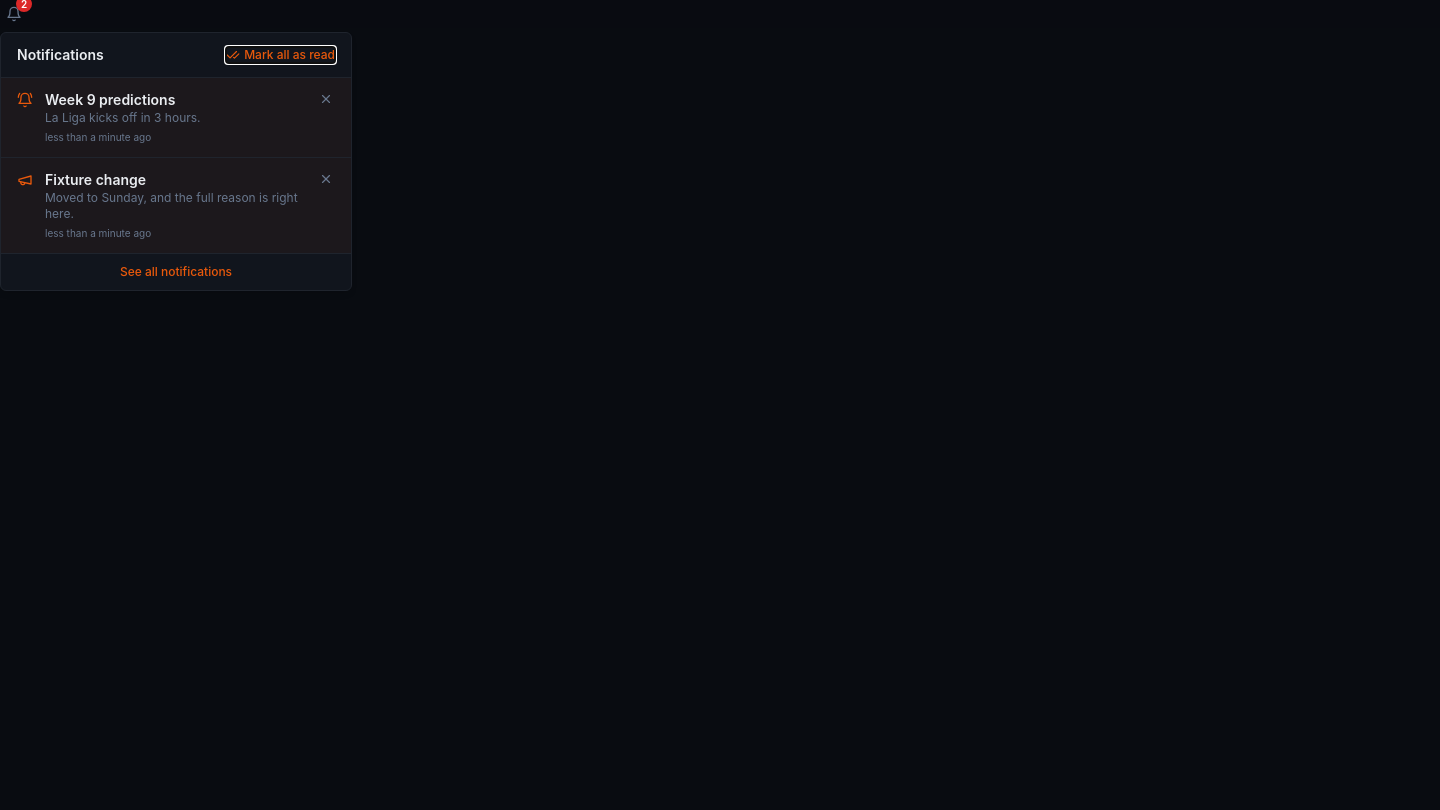
Test case: the notification bell › tapping one shows it in full and marks it read
Click the text "Fixture change" at (96, 180), box [45, 171, 146, 188]
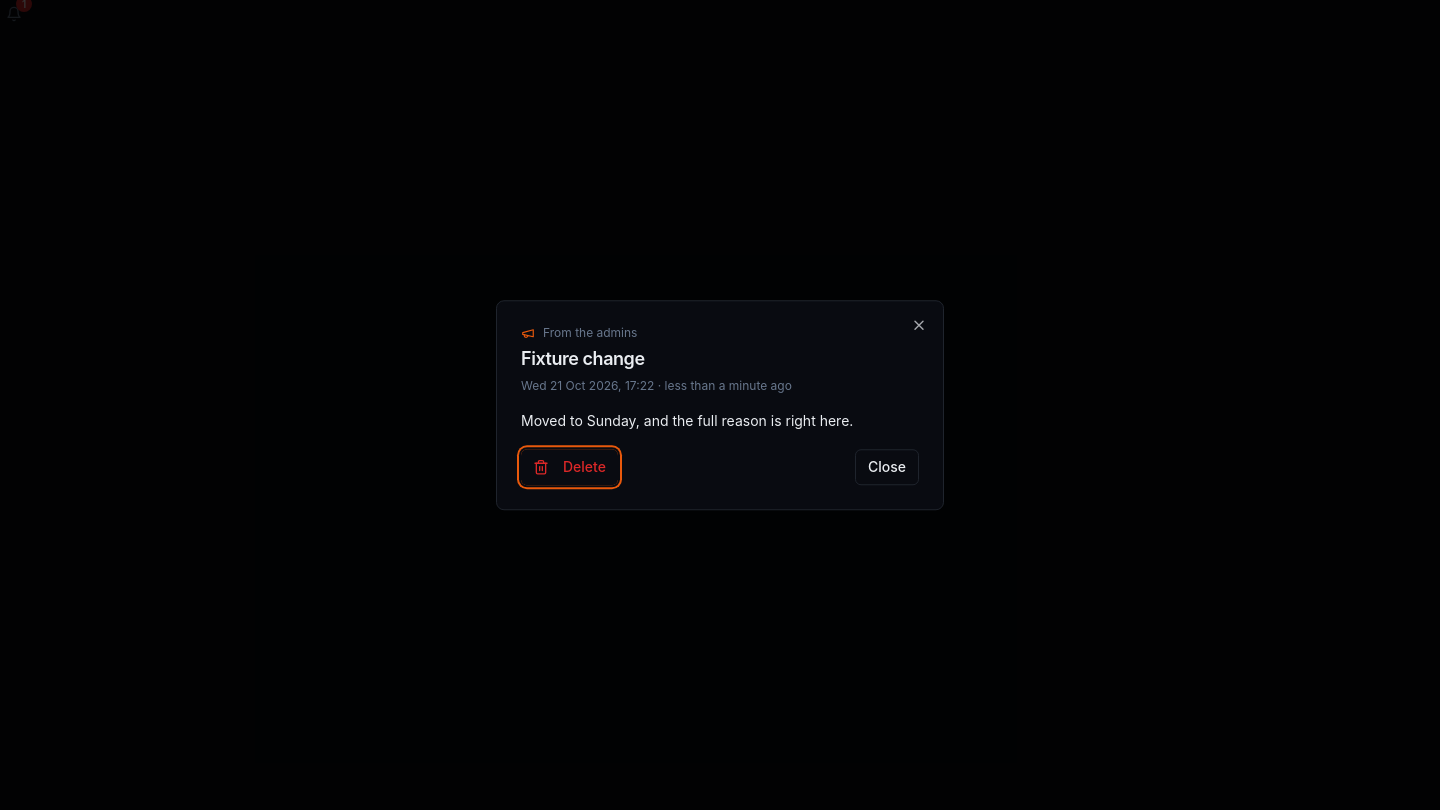
Result: the dialog shows "Moved to Sunday, and the full reason is right here." at [521, 412, 853, 429]
Result: the dialog shows "From the admins" at [543, 325, 638, 340]
Result: the button named "Notifications, 1 unread" is shown at [0, 0, 28, 28]
